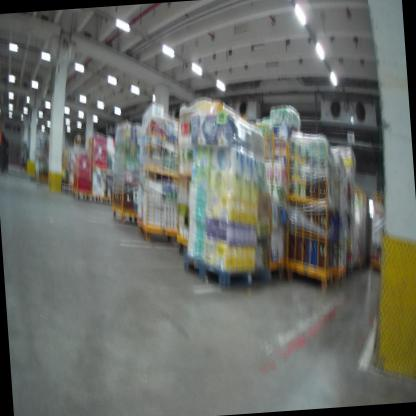pallet_truck: (0, 108, 5, 172)
